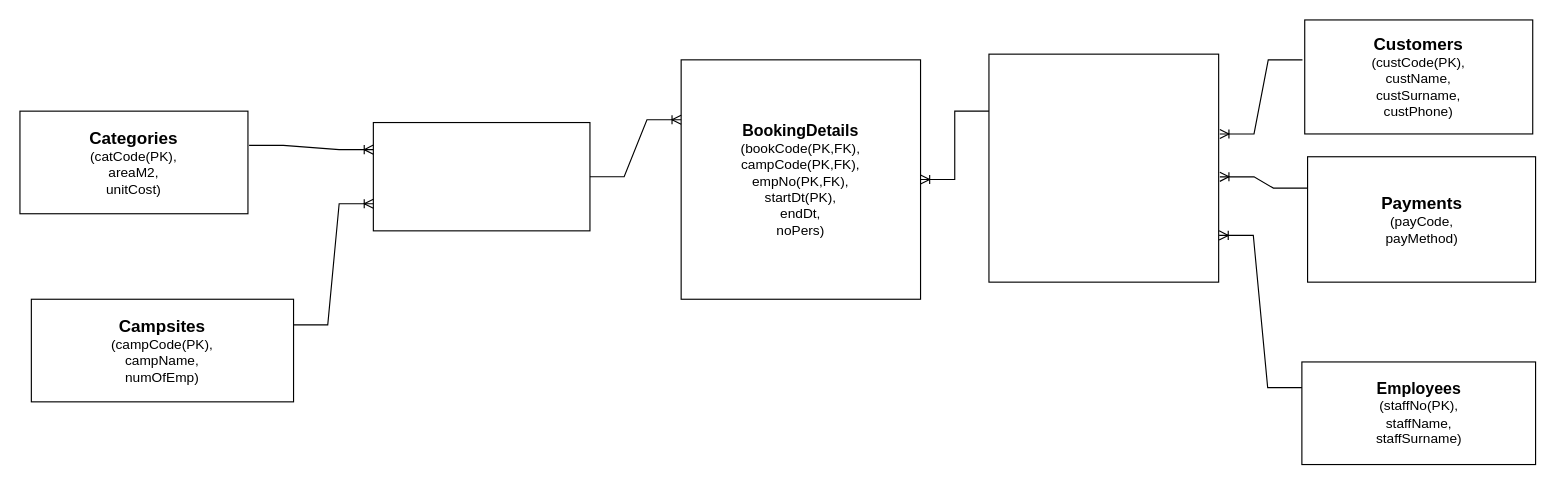
This 1556x485 diagram has some shape labels left out. Each missing label, with the centre of its shape:
"Bookings (bookCode(PK) bookDt payCode(FK), custCode(FK), staffNo(FK))" goes at point 1103,167.
"Emplacements (campCode(PK), empNo(PK), catCode(FK))" goes at point 481,176.
